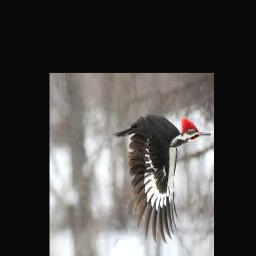Woodpecker: (113, 116, 212, 242)
